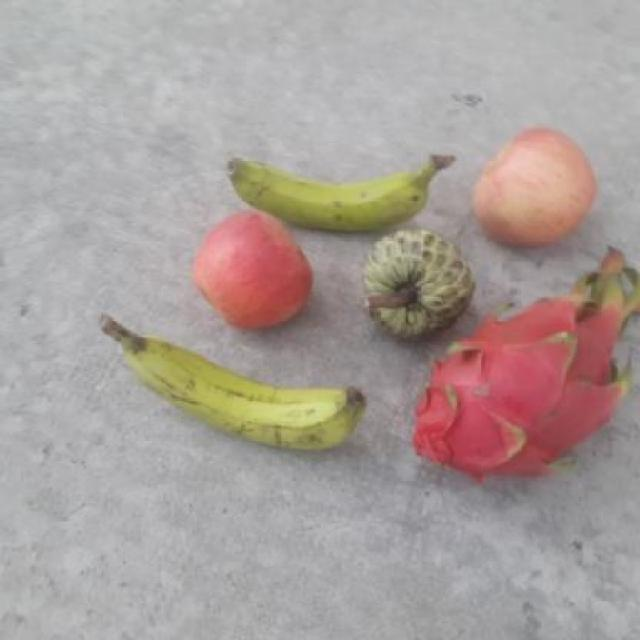apple: (470, 126, 601, 246), (191, 210, 315, 332)
banana: (125, 320, 368, 451), (223, 152, 454, 232)
dragon fruit: (410, 298, 638, 485)
sugar apple: (363, 229, 475, 337)
